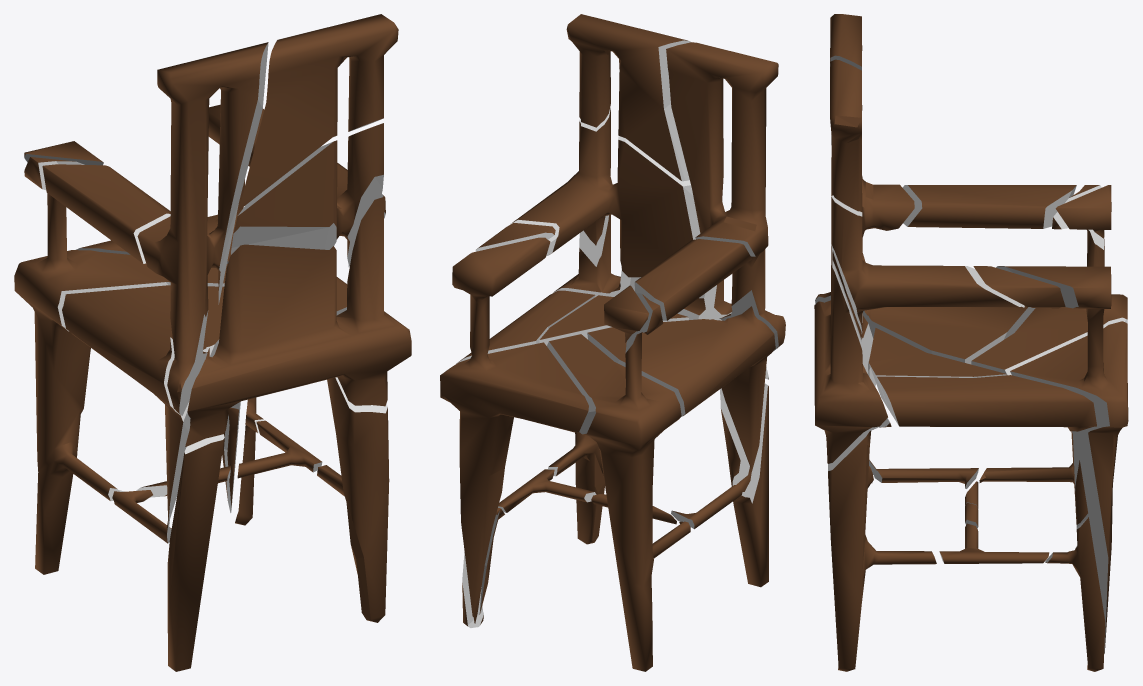
File: Chairs.glb
3 views of the same model, side by side, from view 1: azimuth 30°, elevation 25°; view 2: azimuth 150°, elevation 25°; view 3: azimuth 270°, elevation 25° (orthographic). The views are drawn at different scales.
Parts seen in each view (by area): view 1: Root.007, Root.005, Root.001, Root, Root.011, Root.016, Root.002, Root.017, Root.003, Root.008, Root.013, Root.010 (+1 smaller); view 2: Root.008, Root.005, Root.001, Root.002, Root.016, Root.011, Root, Root.017, Root.007, Root.004, Root.015, Root.010 (+3 smaller); view 3: Root.008, Root.004, Root.002, Root, Root.007, Root.016, Root.001, Root.017, Root.011, Root.005, Root.015, Root.013 (+4 smaller).
Boxes of the visible parts, x1,y1,x2,y2 form: Root.007: (185,197,411,446); Root.005: (137,42,268,415); Root.001: (14,157,227,574); Root: (167,377,389,671); Root.011: (239,14,398,209); Root.016: (62,285,224,543); Root.002: (231,123,385,266); Root.017: (42,164,170,263); Root.003: (237,420,322,478); Root.008: (76,104,264,512); Root.013: (235,397,264,525); Root.010: (24,141,103,165); Root.008: (440,237,588,623); Root.005: (666,42,785,351); Root.001: (547,293,690,671); Root.002: (510,107,700,277); Root.016: (587,306,775,529); Root.011: (566,14,691,181); Root: (548,383,768,587); Root.017: (634,239,751,320); Root.007: (553,215,768,379); Root.004: (456,290,595,363); Root.015: (539,295,689,345); Root.010: (604,285,648,342); Root.008: (996,266,1128,653); Root.004: (877,375,1096,431); Root.002: (831,192,1024,341); Root: (828,359,936,671); Root.007: (814,245,887,463); Root.016: (863,305,1035,488); Root.001: (971,185,1127,483); Root.017: (902,185,1076,228); Root.011: (830,59,862,211); Root.005: (815,14,914,303); Root.015: (868,328,1007,410); Root.013: (1045,517,1105,671).
Bounding box in the file's own units: 0.499 × 1.23 × 0.6201.
